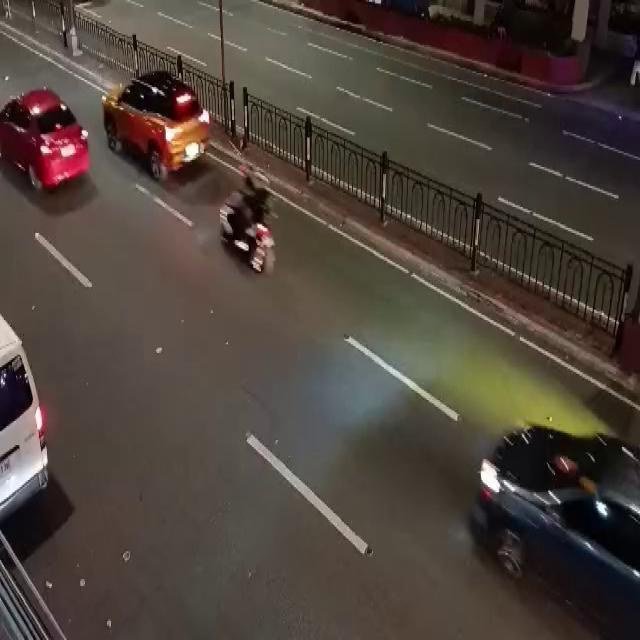car: (461, 425, 640, 601), (104, 63, 208, 182), (0, 83, 86, 200)
motorcycle: (218, 153, 274, 275)
